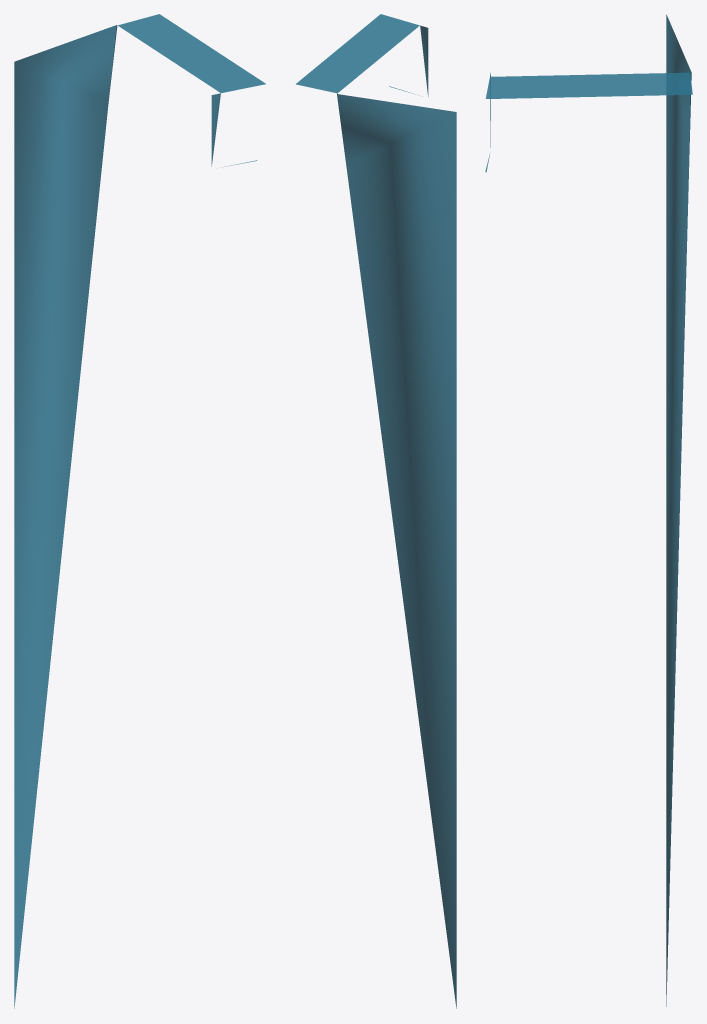
The model's file is original-4.obj.
3 renders of one model, left to right at view 1: azimuth 30°, elevation 25°; view 2: azimuth 150°, elevation 25°; view 3: azimuth 270°, elevation 25°, orthographic. The views are drawn at different scales.
Visible parts, largest first — view 1: 3dw.e2c049a1e7b7004bf44a292ef014253/Model/mesh1/mesh1-geometry/m; view 2: 3dw.e2c049a1e7b7004bf44a292ef014253/Model/mesh1/mesh1-geometry/m; view 3: 3dw.e2c049a1e7b7004bf44a292ef014253/Model/mesh1/mesh1-geometry/m.
Part boxes in pixels (x1,y1,x2,y2): 3dw.e2c049a1e7b7004bf44a292ef014253/Model/mesh1/mesh1-geometry/m: (14, 14, 265, 1008); 3dw.e2c049a1e7b7004bf44a292ef014253/Model/mesh1/mesh1-geometry/m: (296, 14, 456, 1008); 3dw.e2c049a1e7b7004bf44a292ef014253/Model/mesh1/mesh1-geometry/m: (485, 14, 692, 1006).
Size of the model in its own units: 0.2065 by 1.13 by 0.2129.
